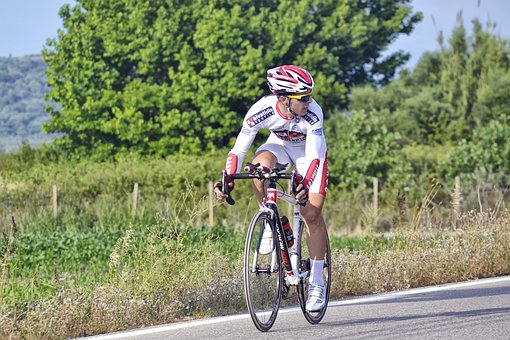bikerider: (215, 59, 348, 340)
